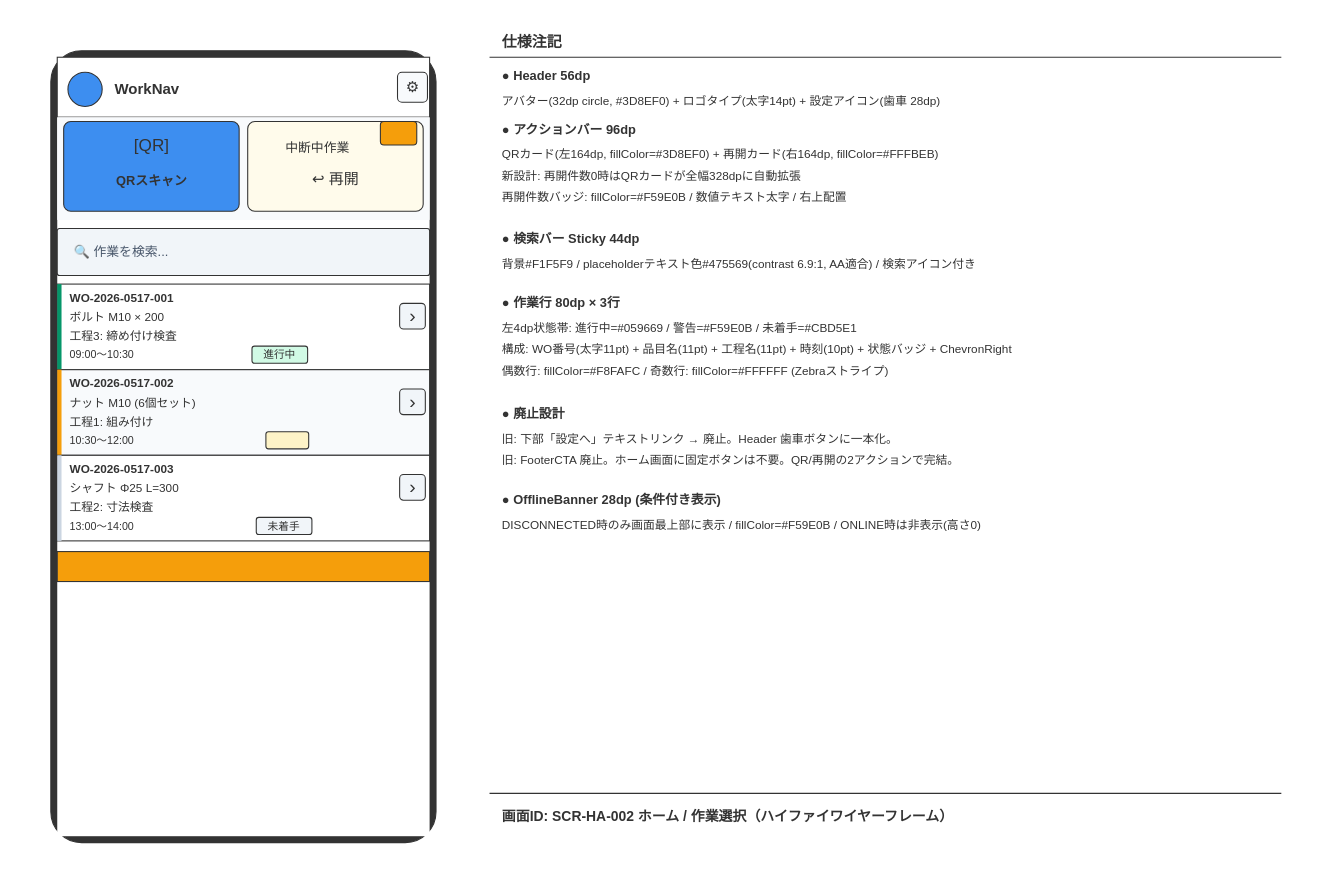
The diagram is 1320 pixels wide and 892 high, and some of its shapes have lost their labels. Here are the shapes that lost their labels. From the top down, the centre of each, then its label:
(398,132): 2件
(287,440): 警告
(243,566): OFFLINE - ネットワーク未接続（DISCONNECTED 時のみ表示）
